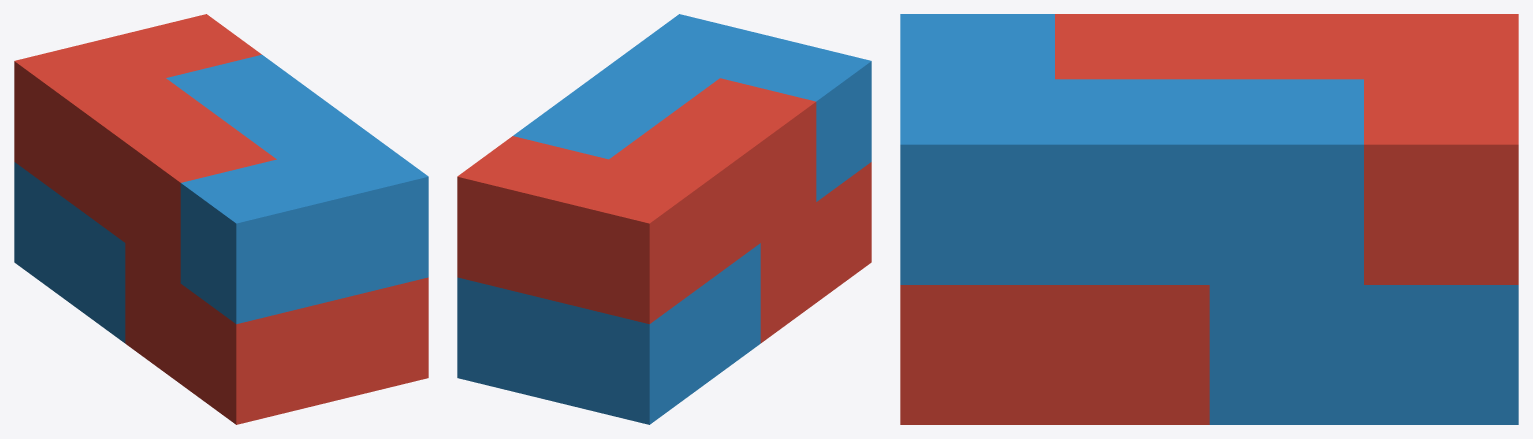
File: tiling.obj
The picture shows the model from 3 angles, left to right: view 1: azimuth 30°, elevation 25°; view 2: azimuth 150°, elevation 25°; view 3: azimuth 270°, elevation 25°; orthographic projection. The views are drawn at different scales.
Visible parts, largest first — view 1: copy_1, copy_2; view 2: copy_1, copy_2; view 3: copy_2, copy_1.
Boxes of the visible parts, <box> form: copy_1: <box>14,14,428,424</box>; copy_2: <box>14,54,428,343</box>; copy_1: <box>457,78,871,343</box>; copy_2: <box>457,14,871,424</box>; copy_2: <box>900,14,1518,424</box>; copy_1: <box>900,14,1518,424</box>.
Bounding box in the file's own units: 2 × 2 × 4.
